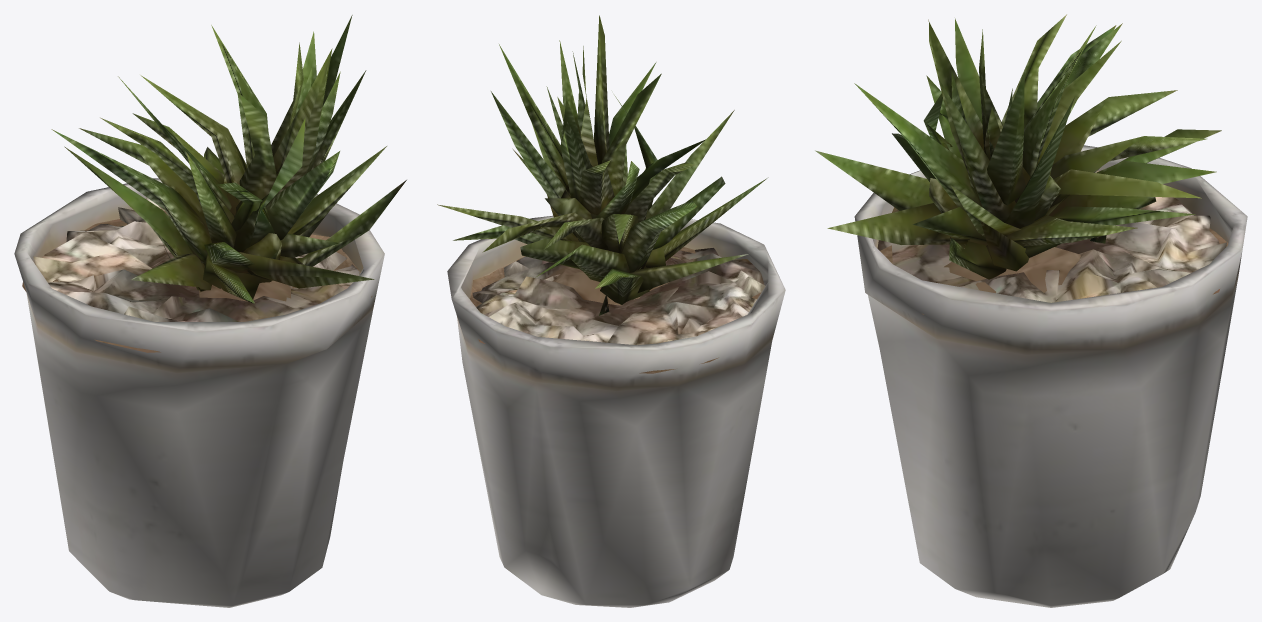
Rendered from potted_plant_04.glb.
3 renders of one model, left to right at view 1: azimuth 30°, elevation 25°; view 2: azimuth 150°, elevation 25°; view 3: azimuth 270°, elevation 25°, orthographic. The views are drawn at different scales.
Visible parts, largest first — view 1: potted_plant_04_ground; view 2: potted_plant_04_ground; view 3: potted_plant_04_ground.
Part boxes in pixels (box(x1,y1,x2,y2)): potted_plant_04_ground: box(14, 15, 406, 607); potted_plant_04_ground: box(437, 15, 785, 607); potted_plant_04_ground: box(815, 14, 1247, 607).
Bounding box in the file's own units: 0.1665 × 0.2671 × 0.1825.
Materials: 1 (1 with a texture image).
